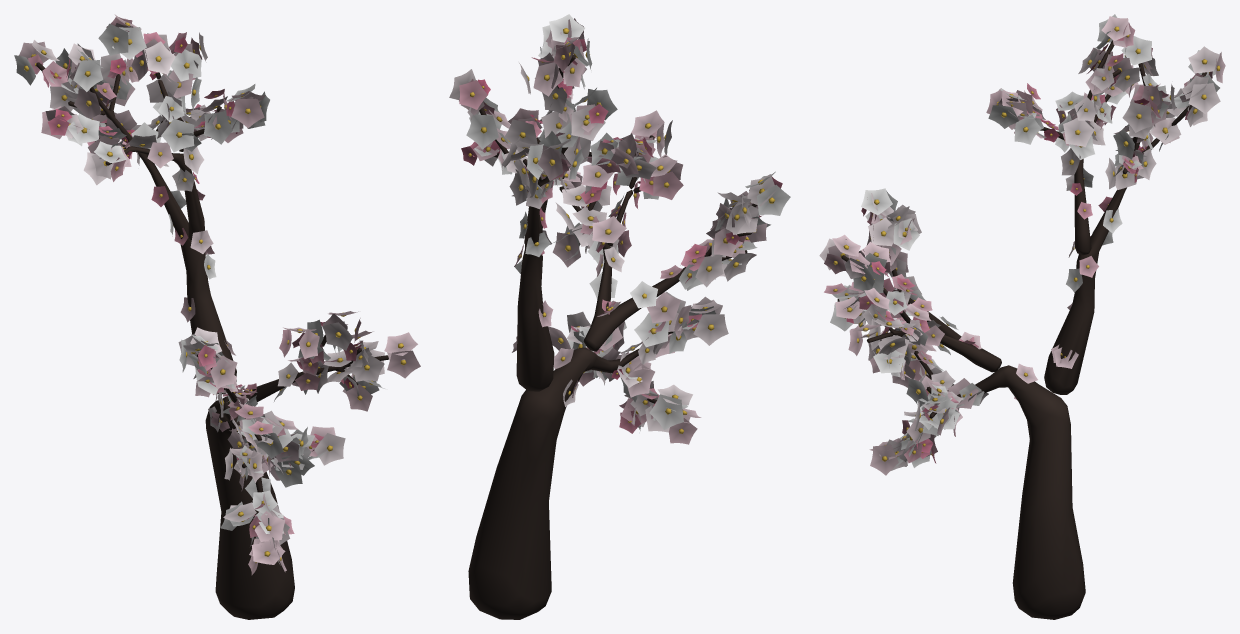
File: tree_03_5.glb
3 views of the same model, side by side, from view 1: azimuth 30°, elevation 25°; view 2: azimuth 150°, elevation 25°; view 3: azimuth 270°, elevation 25° (orthographic). The views are drawn at different scales.
Parts seen in each view (by area): view 1: blooms, bark; view 2: blooms, bark; view 3: blooms, bark.
Boxes of the visible parts, box(x1,y1,x2,y2) form: blooms: box(14, 14, 420, 575); bark: box(36, 51, 388, 619); blooms: box(449, 14, 790, 444); bark: box(468, 55, 757, 619); blooms: box(819, 14, 1225, 475); bark: box(837, 40, 1206, 619).
Size of the model in its own units: 1.38 by 3.4 by 2.27.
